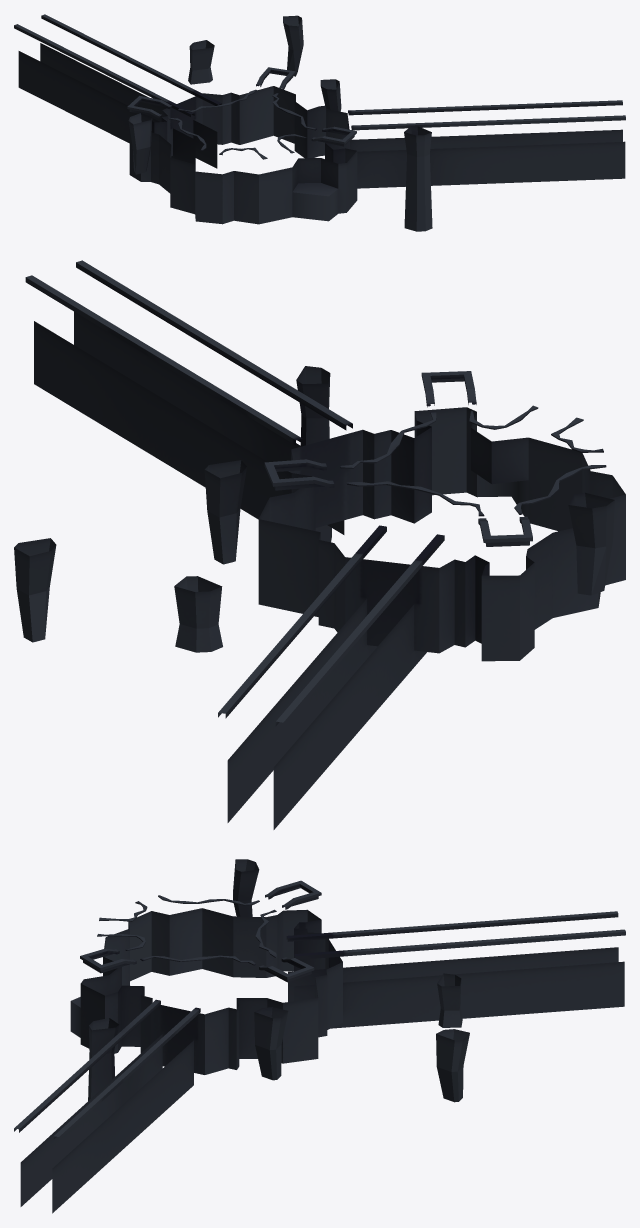
The model's file is Ground_04.FBX.
3 renders of one model, top to bottom at view 1: azimuth 30°, elevation 25°; view 2: azimuth 150°, elevation 25°; view 3: azimuth 270°, elevation 25°, orthographic. The views are drawn at different scales.
Visible parts, largest first — view 1: Ground_04; view 2: Ground_04; view 3: Ground_04.
Part boxes in pixels (<box>): Ground_04: <box>14,14,625,231</box>; Ground_04: <box>14,260,625,829</box>; Ground_04: <box>14,859,625,1213</box>.
Size of the model in its own units: 61.14 by 16.66 by 63.76.
